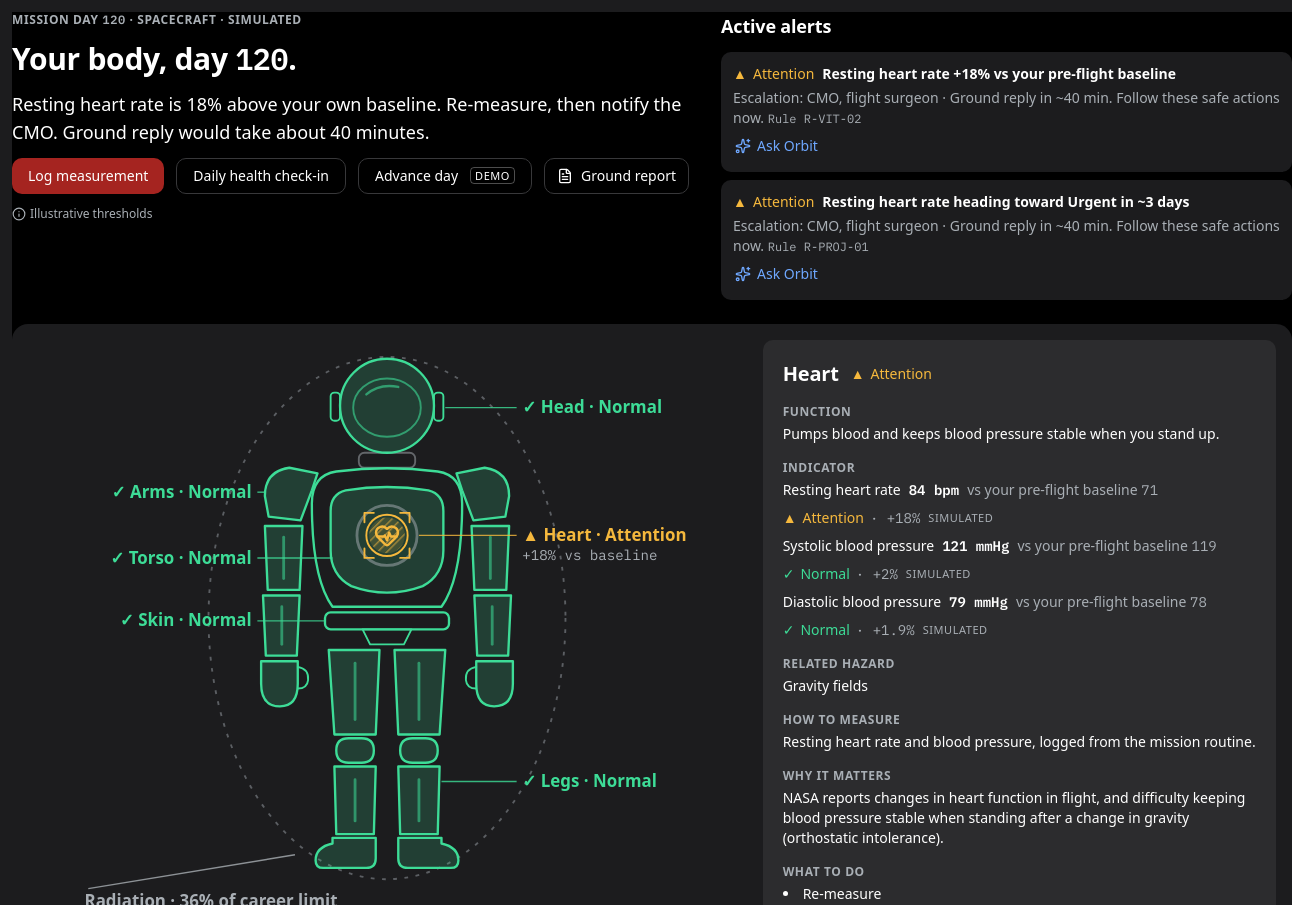
Test: Overview · L5 (P1) › Advance day (demo) avança o dia e a dose de carreira (BODY-08)
Click the button "Advance day Demo". click: (445, 176)
box: [358,158,532,194]
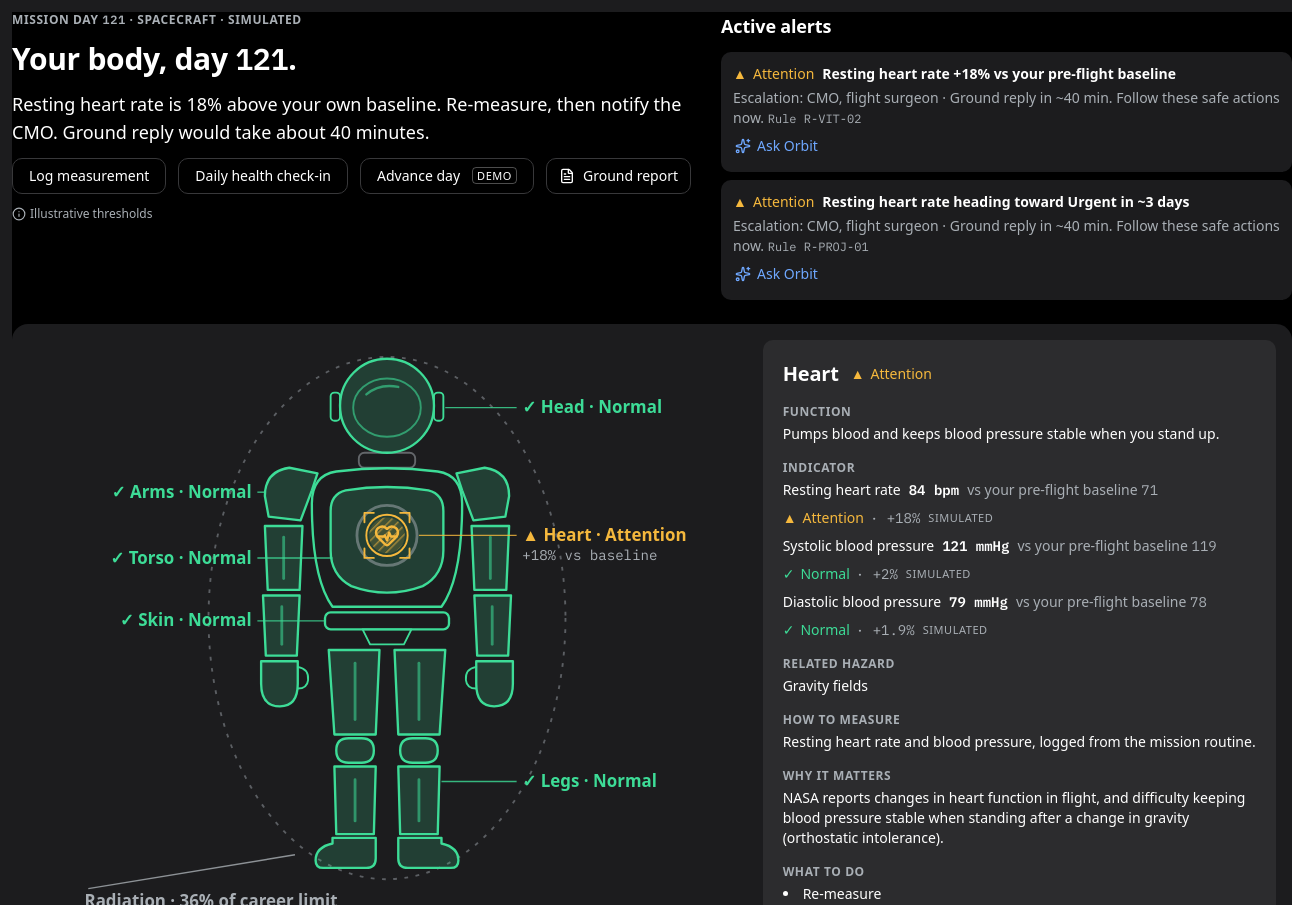
Expected: the heading "Your body, day 121." is shown, [12,38,296,79]
